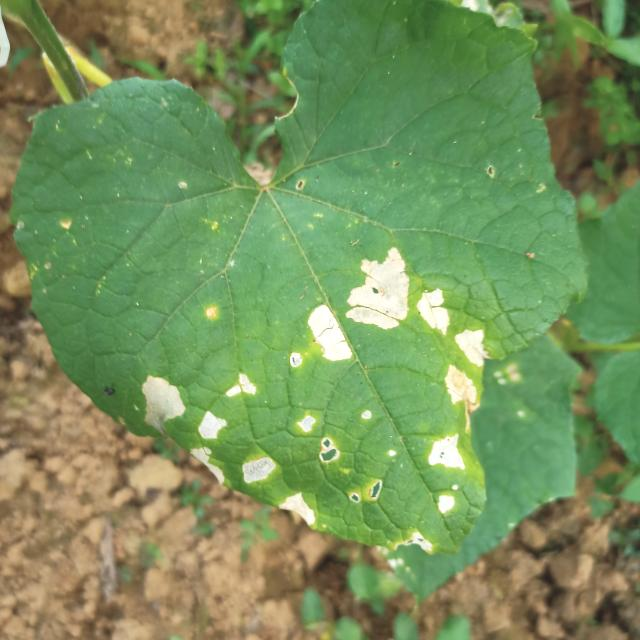disease_cucumber: (307, 249, 408, 363), (443, 328, 488, 406), (425, 435, 465, 518), (190, 406, 230, 479), (297, 414, 339, 469), (142, 377, 183, 427), (418, 288, 451, 334), (242, 454, 276, 490), (279, 493, 317, 524), (225, 372, 259, 401)
